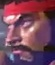ryu: (0, 0, 51, 64)
